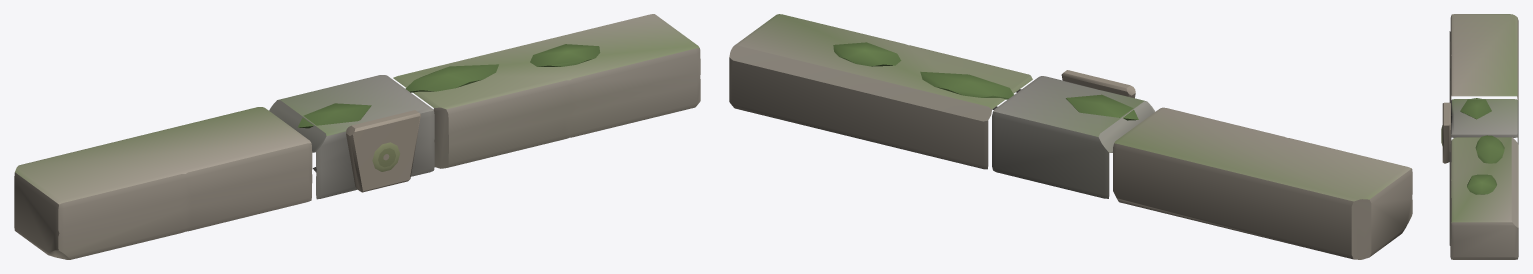
File: ruins-lintel-v3.glb
3 views of the same model, side by side, from view 1: azimuth 30°, elevation 25°; view 2: azimuth 150°, elevation 25°; view 3: azimuth 270°, elevation 25° (orthographic). The views are drawn at different scales.
Parts seen in each view (by area): view 1: 0_ruins_lintel; view 2: 0_ruins_lintel; view 3: 0_ruins_lintel.
Part boxes in pixels (x1,y1,x2,y2): 0_ruins_lintel: (14, 14, 700, 259); 0_ruins_lintel: (729, 14, 1412, 259); 0_ruins_lintel: (1441, 14, 1518, 259).
Bounding box in the file's own units: 4.62 × 0.47 × 0.72.
